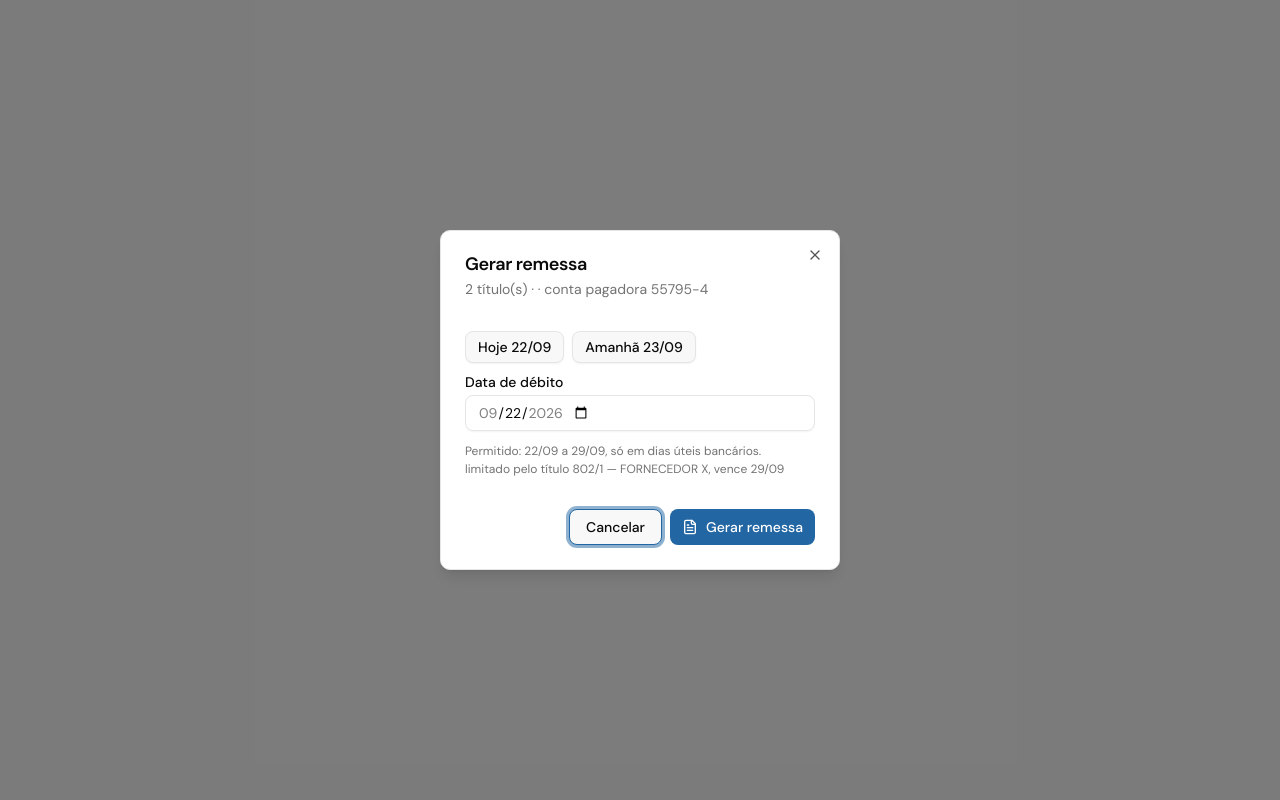
Test: GerarRemessaDialog › atalhos Hoje/Amanhã usam as datas do backend
Click the button "Amanhã 23/09".
click(634, 347)  # box [572, 331, 696, 363]
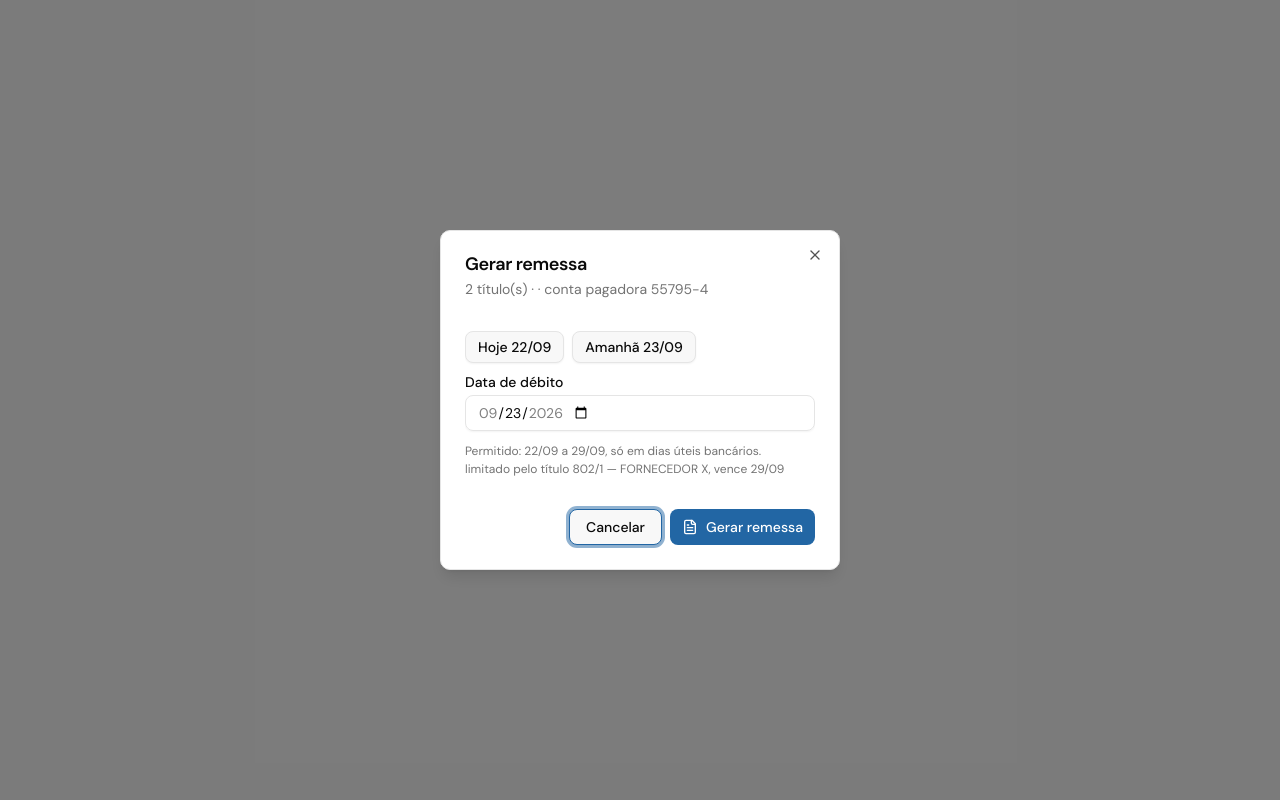
Expected: the date field labelled "Data de débito" holds "2026-09-23", [465, 395, 815, 431]
Click the button "Hoje 22/09".
click(515, 347)  # box [465, 331, 564, 363]
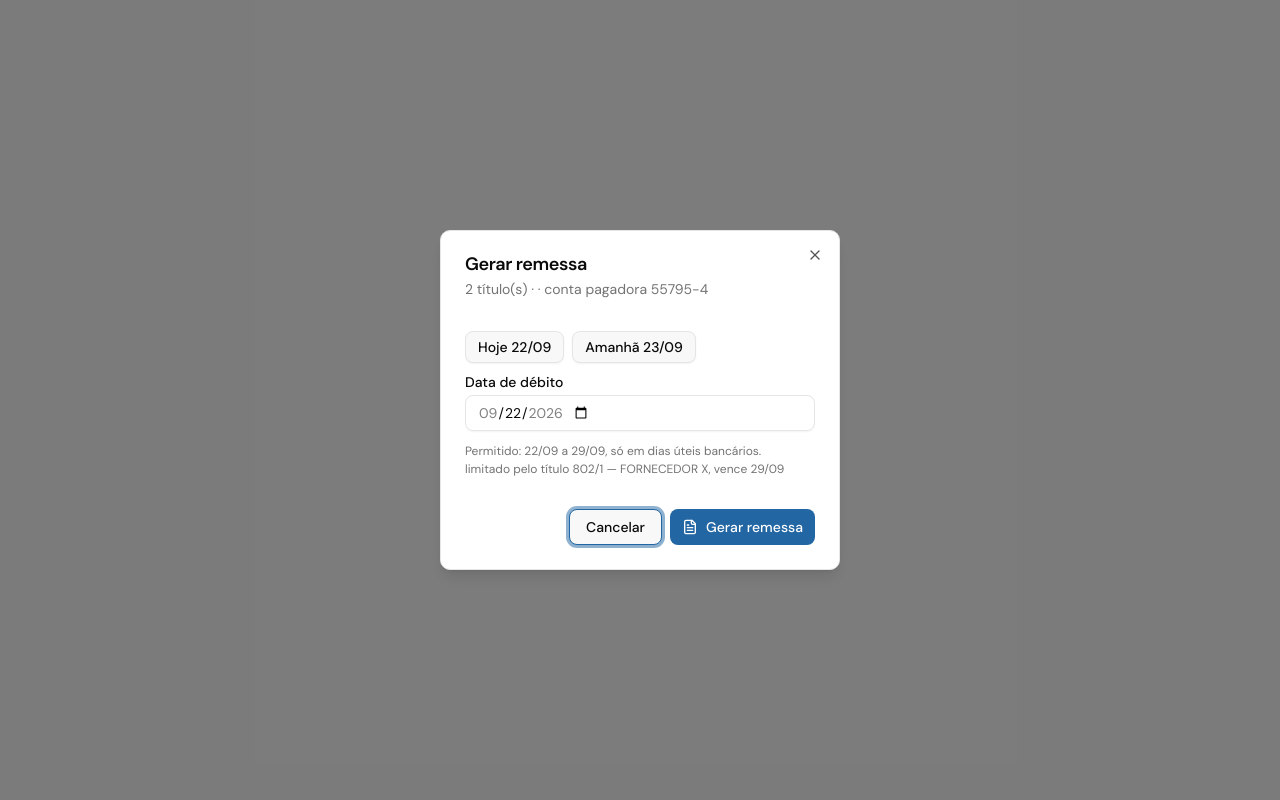
Expected: the date field labelled "Data de débito" holds "2026-09-22", [465, 395, 815, 431]
